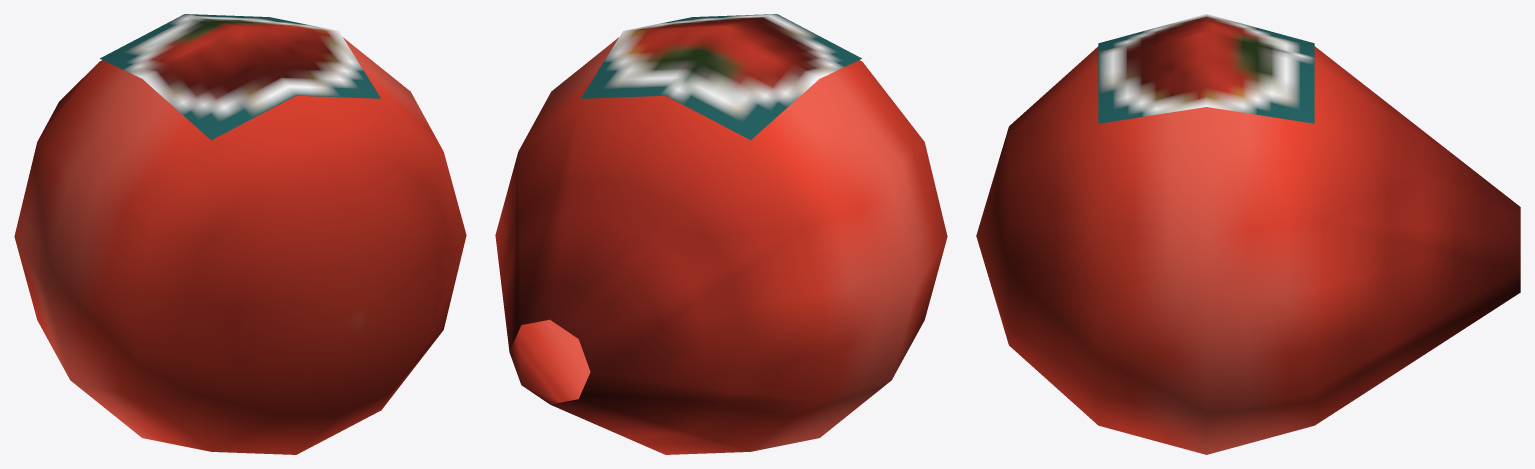
File: batch_0060.obj
3 views of the same model, side by side, from view 1: azimuth 30°, elevation 25°; view 2: azimuth 150°, elevation 25°; view 3: azimuth 270°, elevation 25° (orthographic). The views are drawn at different scales.
Parts seen in each view (by area): view 1: batch_0060; view 2: batch_0060; view 3: batch_0060.
Part boxes in pixels (left/top/right/bottom): batch_0060: left=14, top=14, right=466, bottom=454; batch_0060: left=495, top=14, right=947, bottom=454; batch_0060: left=976, top=14, right=1520, bottom=454.
Size of the model in its own units: 31.5 by 31.73 by 39.
Materials: 1 (1 with a texture image).
